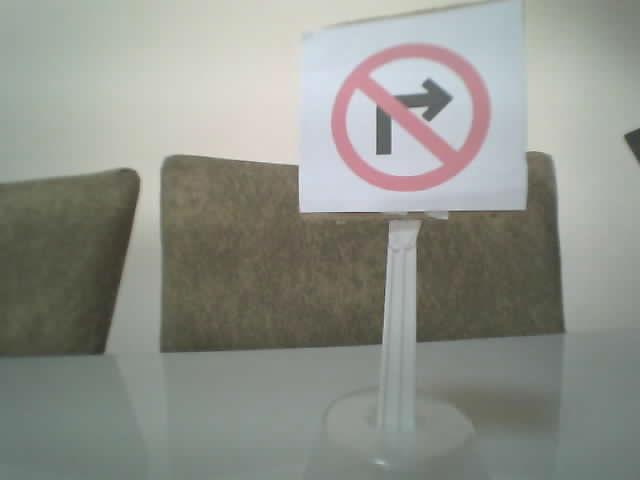R-4b_proibido-direita: (332, 43, 489, 192)
